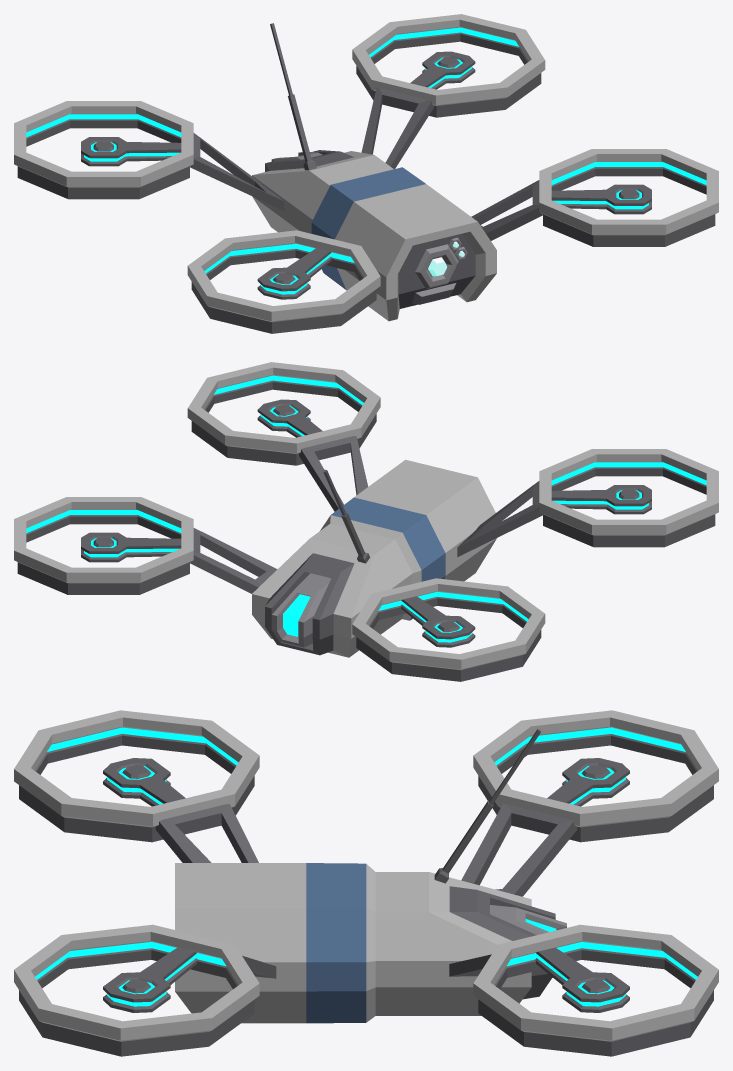
File: Drone_Blue.glb
3 views of the same model, one above another, from view 1: azimuth 30°, elevation 25°; view 2: azimuth 150°, elevation 25°; view 3: azimuth 270°, elevation 25° (orthographic). The views are drawn at different scales.
Parts seen in each view (by area): view 1: default; view 2: default; view 3: default.
Part boxes in pixels (<box>): default: <box>14,14,718,333</box>; default: <box>14,362,718,681</box>; default: <box>14,710,718,1056</box>.
Size of the model in its own units: 1.25 by 0.4568 by 1.17.
1 material, 1 textured.
